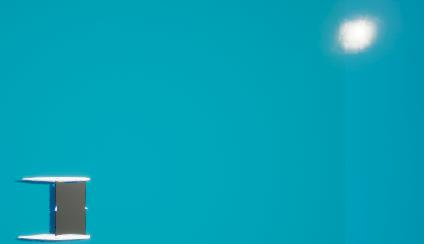boat: (14, 172, 96, 244)
drone: (56, 182, 86, 235)
land_base: (320, 4, 392, 66)
